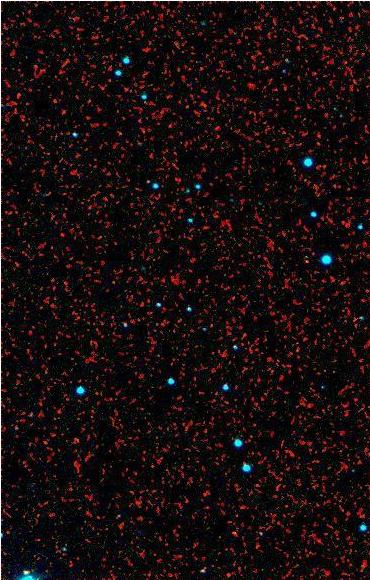star: (219, 520, 249, 550)
